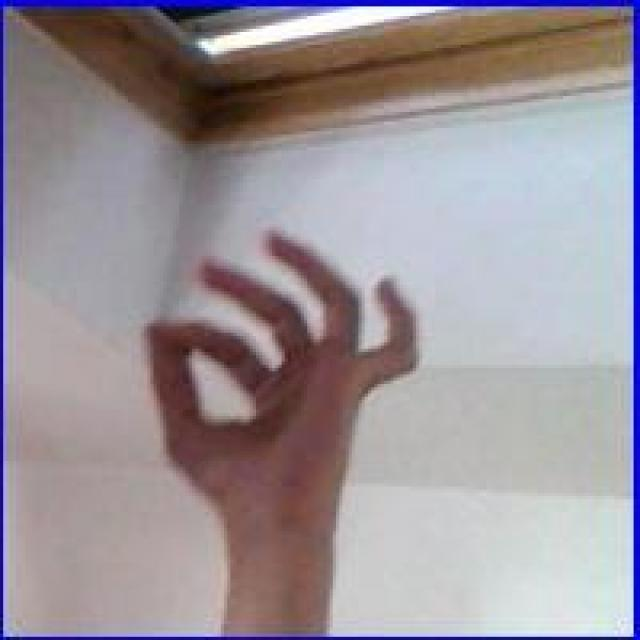F: (144, 229, 422, 568)
